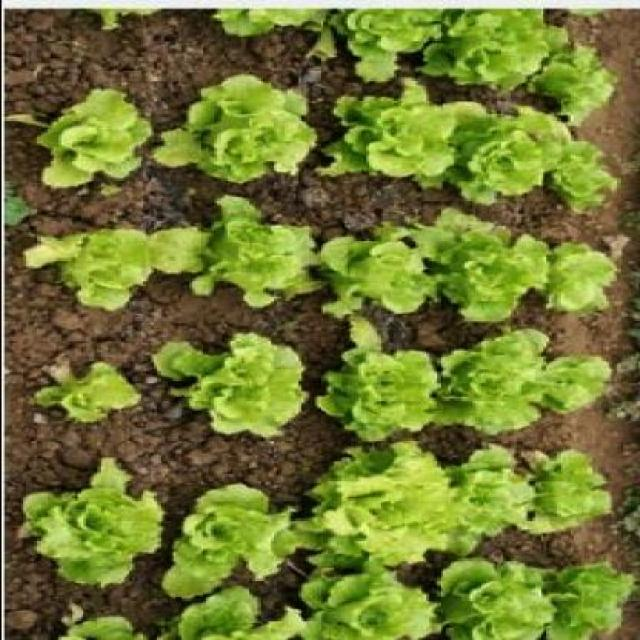Lettuce: (22, 458, 164, 593), (325, 79, 480, 198), (148, 335, 314, 446), (161, 195, 323, 308), (159, 72, 318, 186), (304, 446, 444, 573), (166, 468, 296, 595), (422, 210, 542, 325), (318, 332, 436, 446), (444, 99, 560, 212), (434, 328, 550, 439), (38, 217, 168, 315), (316, 220, 436, 325), (41, 82, 149, 195), (432, 0, 564, 92), (432, 548, 552, 640), (444, 448, 537, 566), (331, 0, 452, 89), (296, 566, 441, 640), (29, 357, 142, 438), (532, 39, 626, 130), (535, 231, 622, 326), (532, 450, 616, 535), (548, 560, 637, 640), (156, 595, 302, 640), (544, 344, 622, 424), (552, 133, 622, 219), (202, 0, 330, 43), (63, 610, 161, 640)
